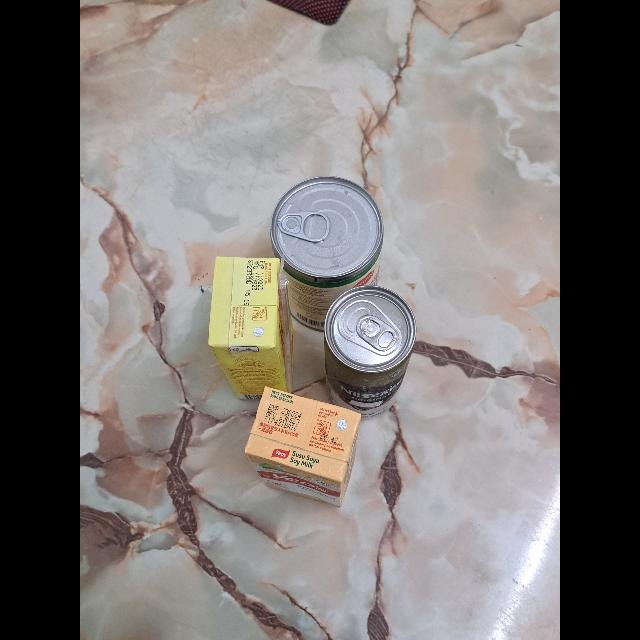aba de lata: (279, 208, 333, 246), (352, 314, 400, 354)
caixinha: (245, 387, 362, 508), (210, 255, 296, 400)
lata: (271, 175, 384, 329), (324, 283, 416, 415)
